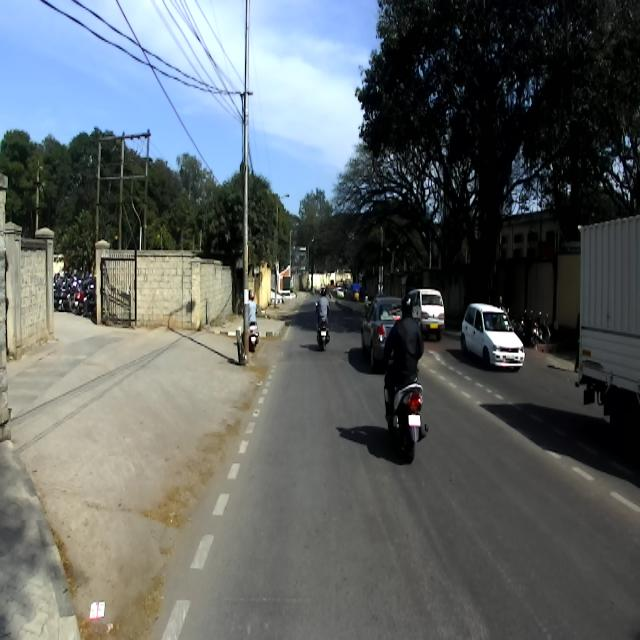electric pole ahead at: (234, 0, 258, 372)
motorcycle ahead at: (384, 371, 432, 466)
